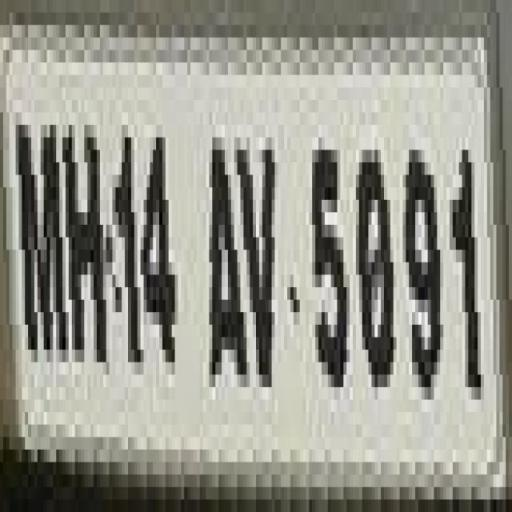number plate: (0, 12, 496, 512)
